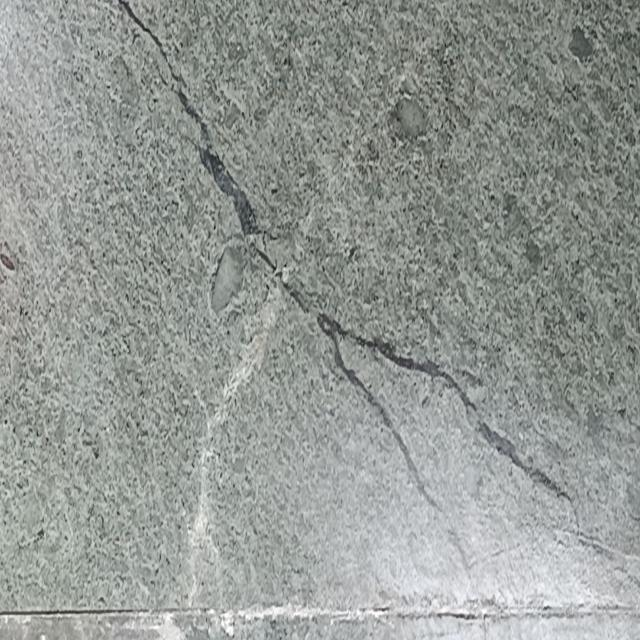branched cracks: (117, 0, 573, 507)
